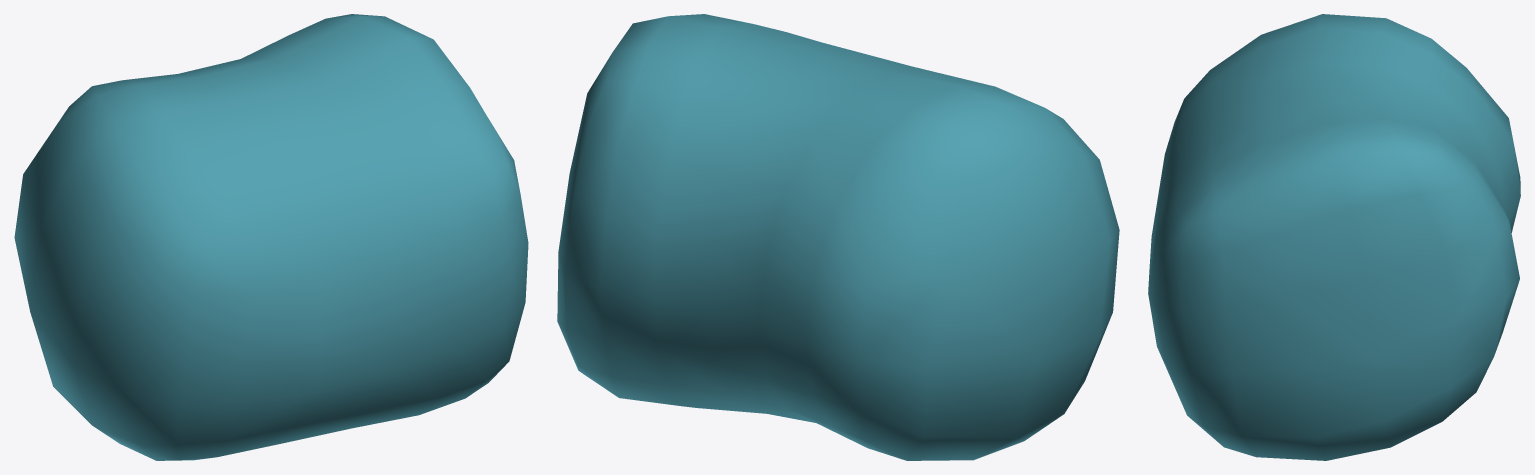
File: VIS_Alpha_Surface_044.dae
The picture shows the model from 3 angles, left to right: view 1: azimuth 30°, elevation 25°; view 2: azimuth 150°, elevation 25°; view 3: azimuth 270°, elevation 25°; orthographic projection. The views are drawn at different scales.
Parts seen in each view (by area): view 1: VIS_Alpha_Surface_044; view 2: VIS_Alpha_Surface_044; view 3: VIS_Alpha_Surface_044.
Boxes of the visible parts, <box> form: VIS_Alpha_Surface_044: <box>14,14,528,460</box>; VIS_Alpha_Surface_044: <box>557,14,1119,460</box>; VIS_Alpha_Surface_044: <box>1148,14,1520,460</box>.
Size of the model in its own units: 0.0285 by 0.0225 by 0.0213.
